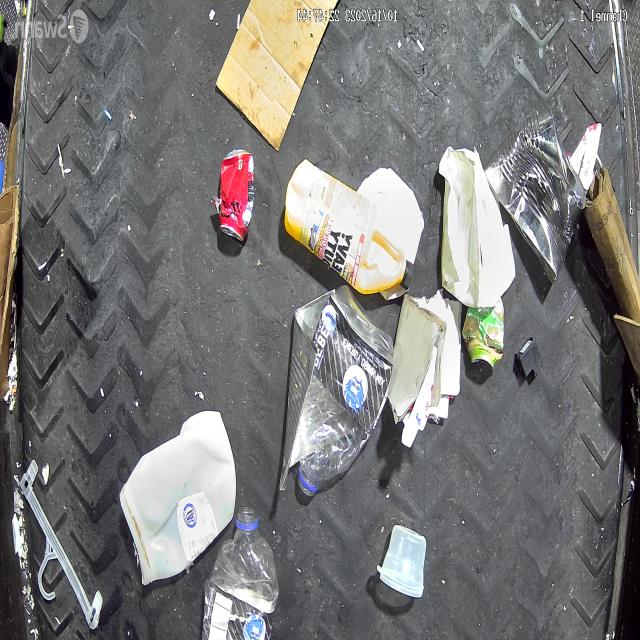can: (482, 107, 584, 282), (218, 148, 254, 240), (462, 302, 504, 368)
milk_jug: (118, 412, 236, 585)
non_white_jug: (284, 158, 413, 294)
plastic_bottle: (297, 284, 394, 496), (207, 506, 279, 638)
